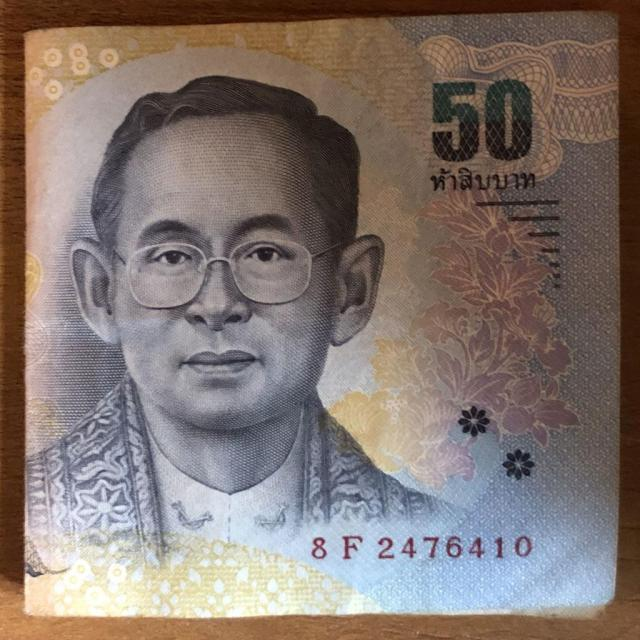THAI50: (24, 12, 619, 617)
